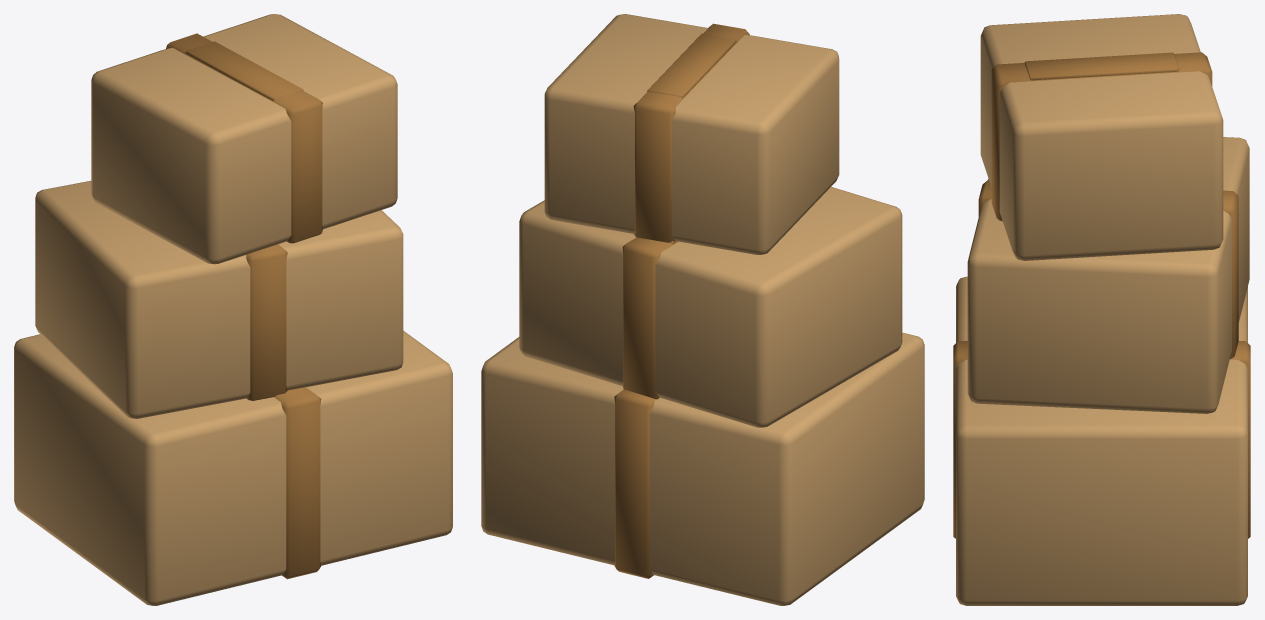
Rendered from Garage_Boxes.fbx.
3 views of the same model, side by side, from view 1: azimuth 30°, elevation 25°; view 2: azimuth 150°, elevation 25°; view 3: azimuth 270°, elevation 25° (orthographic). The views are drawn at different scales.
Parts seen in each view (by area): view 1: Card, Tape; view 2: Card, Tape; view 3: Card, Tape.
Part boxes in pixels (x1,y1,x2,y2): Card: [14, 14, 452, 605]; Tape: [166, 33, 322, 579]; Card: [481, 14, 924, 605]; Tape: [614, 23, 749, 578]; Card: [956, 14, 1249, 605]; Tape: [953, 52, 1250, 538].
Bounding box in the file's own units: 2.8 × 3.95 × 2.24.
